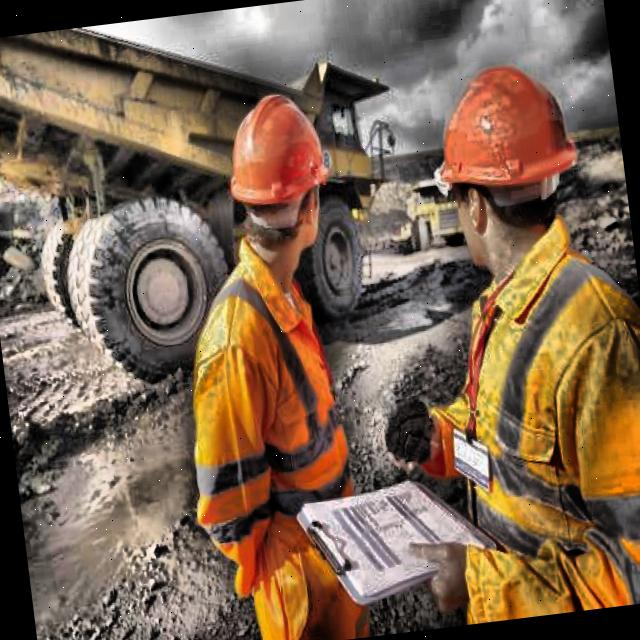helmet: (414, 41, 602, 280), (210, 80, 350, 274)
